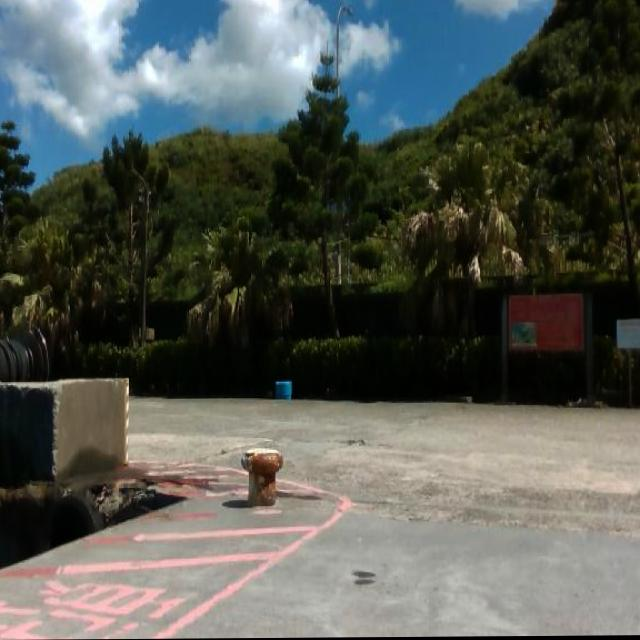pollute: (274, 381, 296, 403)
